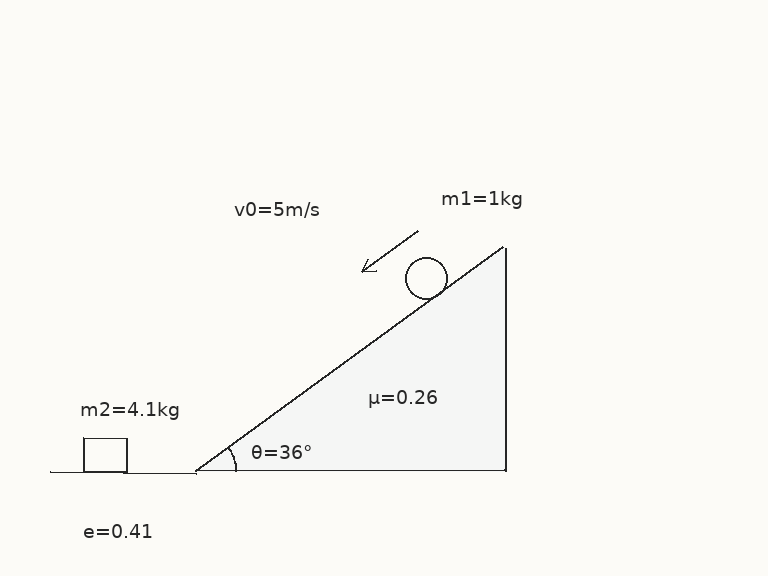ball: (403, 255, 449, 301)
block: (81, 437, 129, 473)
ramp: (194, 245, 506, 473)
